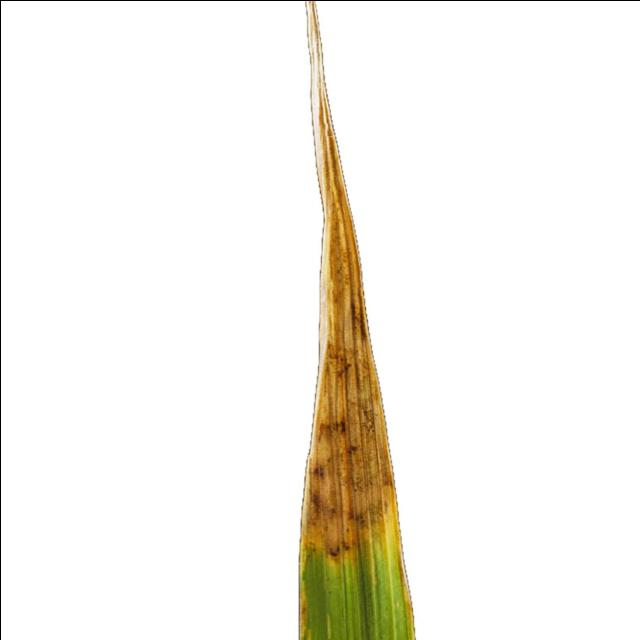Leaf scald: (174, 0, 445, 640)
